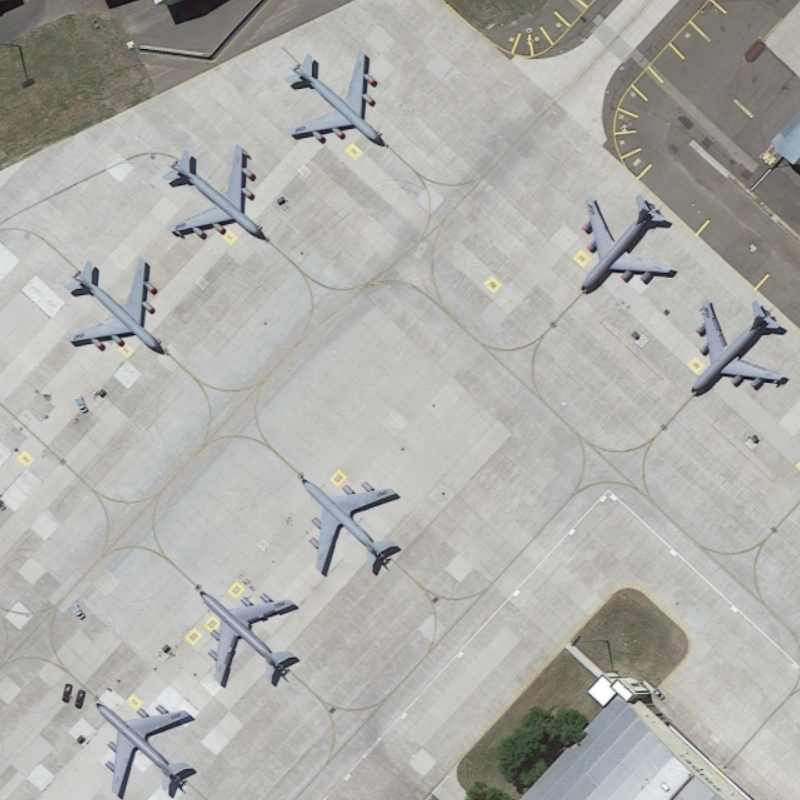A14: (291, 461, 419, 580), (193, 581, 318, 698), (60, 255, 181, 364), (271, 54, 402, 154), (574, 180, 680, 297), (683, 289, 791, 403), (90, 694, 202, 800), (163, 147, 274, 253)
